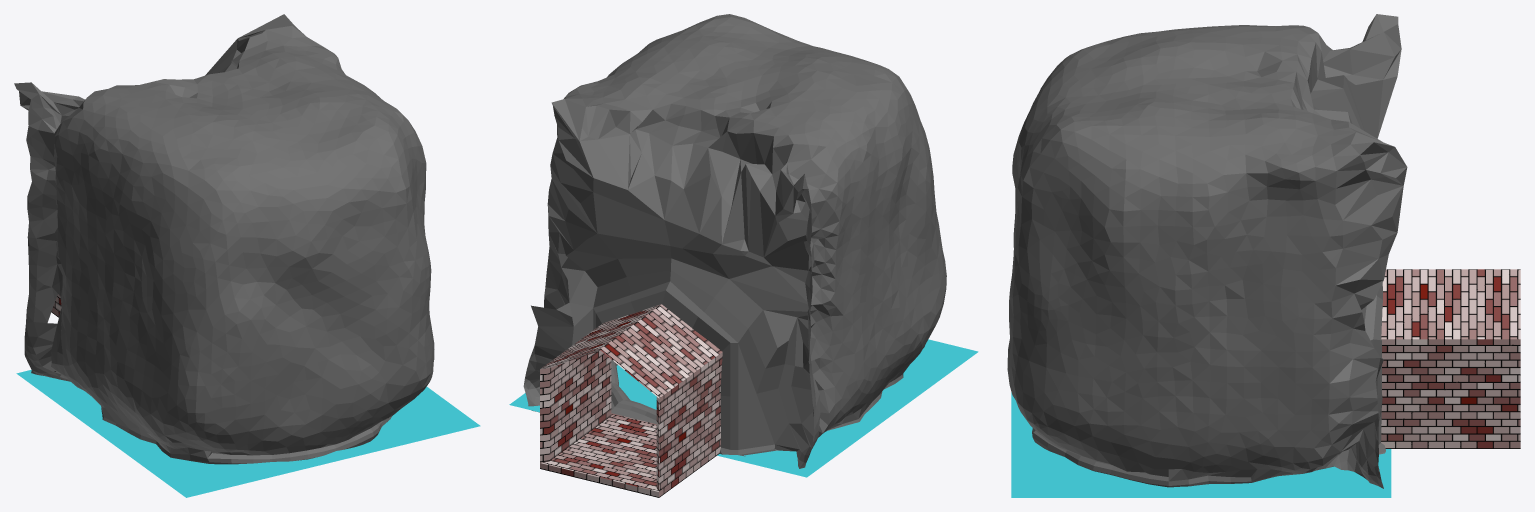
The model's file is cave.glb.
3 views of the same model, side by side, from view 1: azimuth 30°, elevation 25°; view 2: azimuth 150°, elevation 25°; view 3: azimuth 270°, elevation 25° (orthographic). The views are drawn at different scales.
Visible parts, largest first — view 1: Torus, Plane.001, Plane; view 2: Plane.001, Torus, baked, Plane; view 3: Torus, Plane.001, baked, Plane.
Boxes of the visible parts, x1,y1,x2,y2 form: Torus: [17, 19, 433, 464]; Plane.001: [14, 14, 434, 464]; Plane: [16, 370, 480, 497]; Plane.001: [523, 14, 946, 454]; Torus: [524, 79, 946, 468]; baked: [540, 304, 722, 497]; Plane: [509, 339, 978, 477]; Torus: [1007, 14, 1406, 488]; Plane.001: [1007, 14, 1407, 487]; baked: [1381, 269, 1520, 448]; Plane: [1011, 392, 1391, 497].
Bounding box in the file's own units: 10.01 × 10.22 × 13.5.
5 materials, 1 textured.
